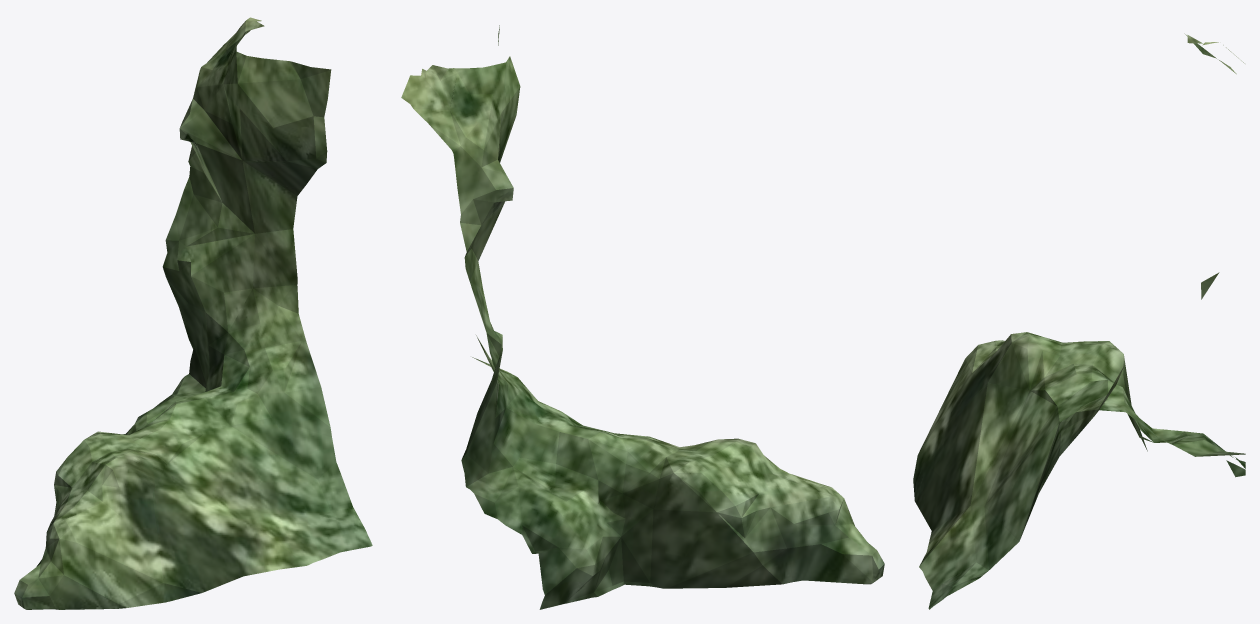
3 renders of one model, left to right at view 1: azimuth 30°, elevation 25°; view 2: azimuth 150°, elevation 25°; view 3: azimuth 270°, elevation 25°, orthographic. The views are drawn at different scales.
Bounding box in the file's own units: 2.3 × 2.95 × 1.58.
Materials: 2 (2 with a texture image).
